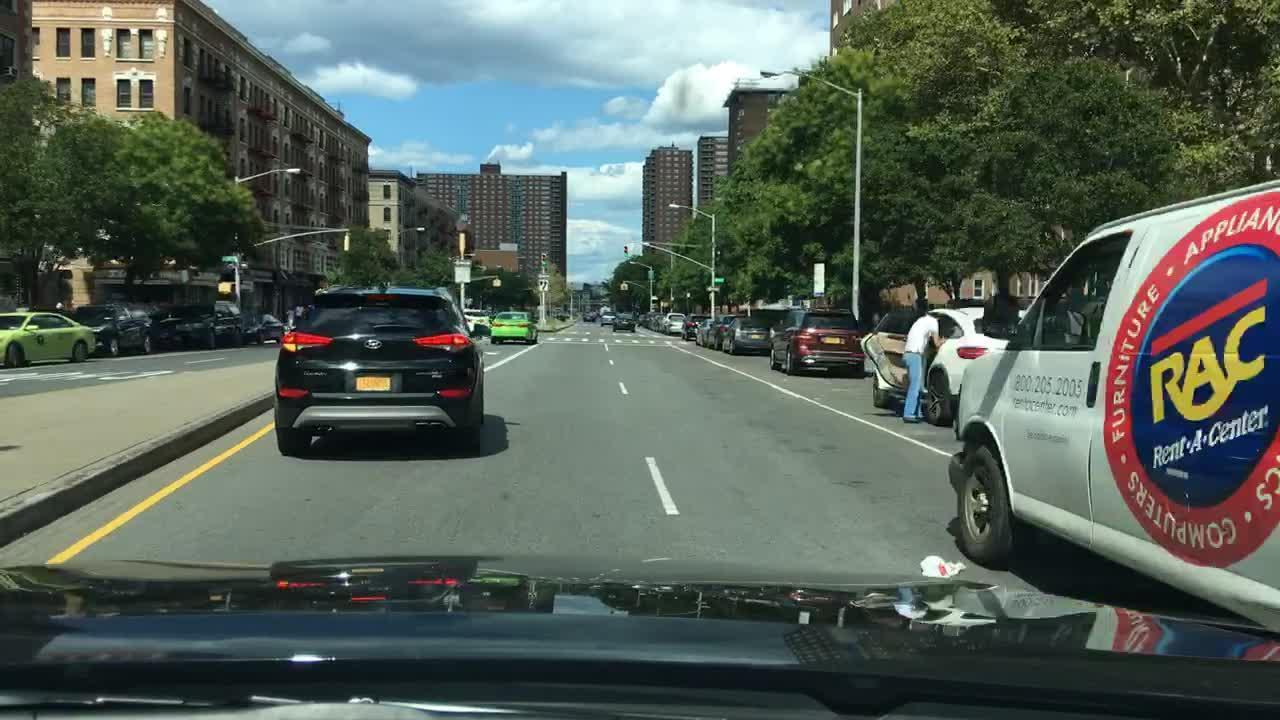Hyundai: (359, 333, 388, 354)
